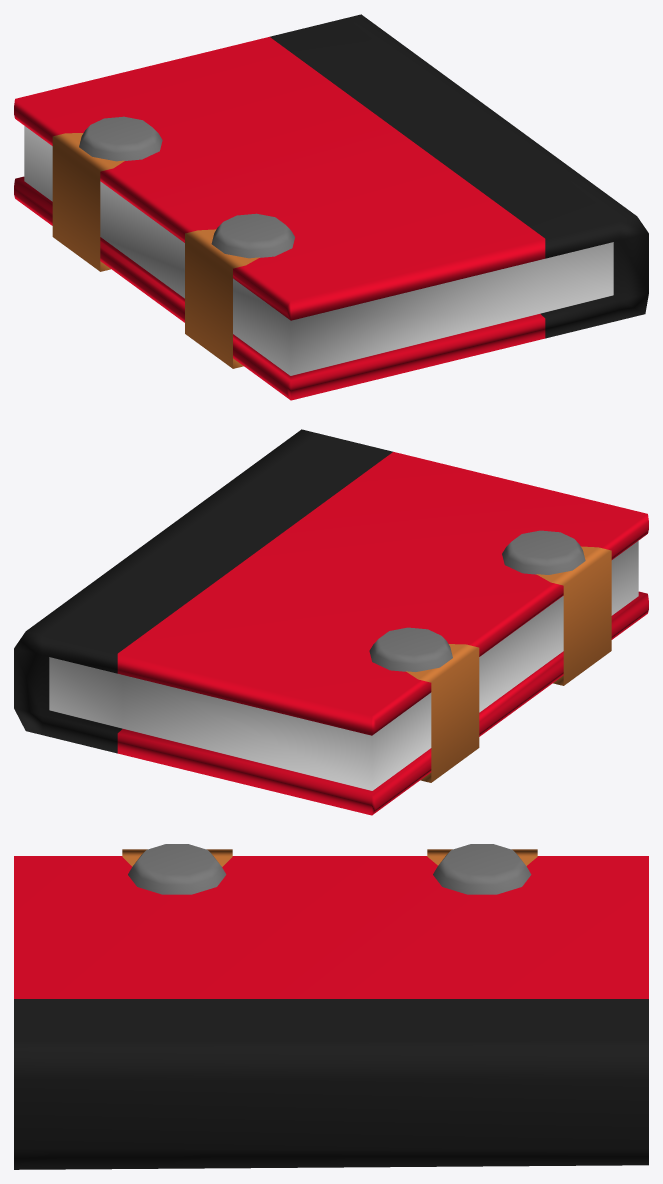
File: Livro com fechadura.fbx
The picture shows the model from 3 angles, top to bottom: view 1: azimuth 30°, elevation 25°; view 2: azimuth 150°, elevation 25°; view 3: azimuth 270°, elevation 25°; orthographic projection. The views are drawn at different scales.
Visible parts, largest first — view 1: Livro Grande Com Fechadura.001; view 2: Livro Grande Com Fechadura.001; view 3: Livro Grande Com Fechadura.001.
Part boxes in pixels (left/top/right/bottom): Livro Grande Com Fechadura.001: left=14, top=14, right=648, bottom=400; Livro Grande Com Fechadura.001: left=14, top=429, right=648, bottom=815; Livro Grande Com Fechadura.001: left=14, top=844, right=648, bottom=1169.
Size of the model in its own units: 16.25 by 4.77 by 21.05.
